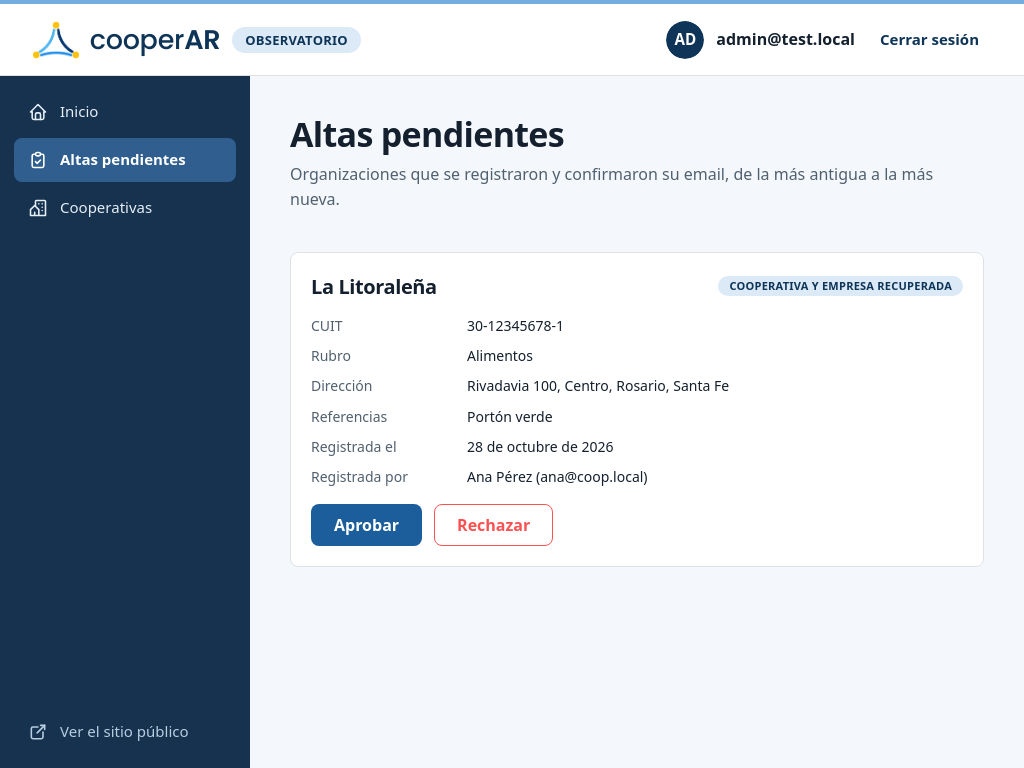
Test: pending organizations › rejects an organization only with a reason
Click the button "Rechazar" at (494, 525), box [434, 504, 553, 546]
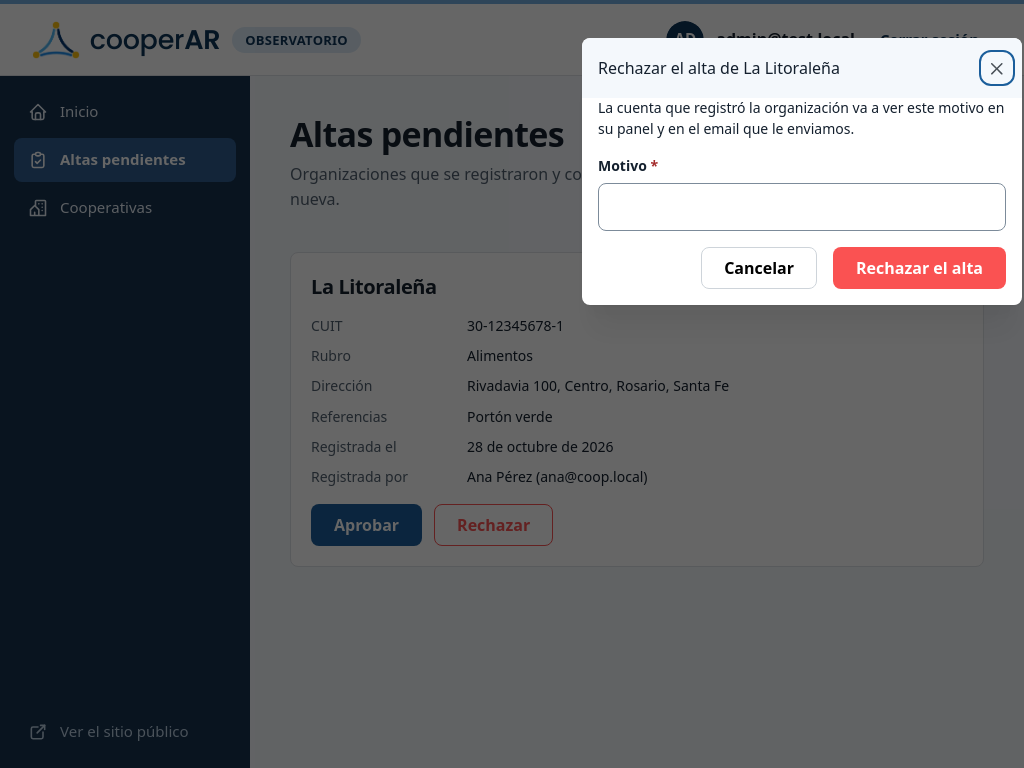
Click the button "Rechazar el alta" at (920, 268), box [833, 247, 1006, 289]
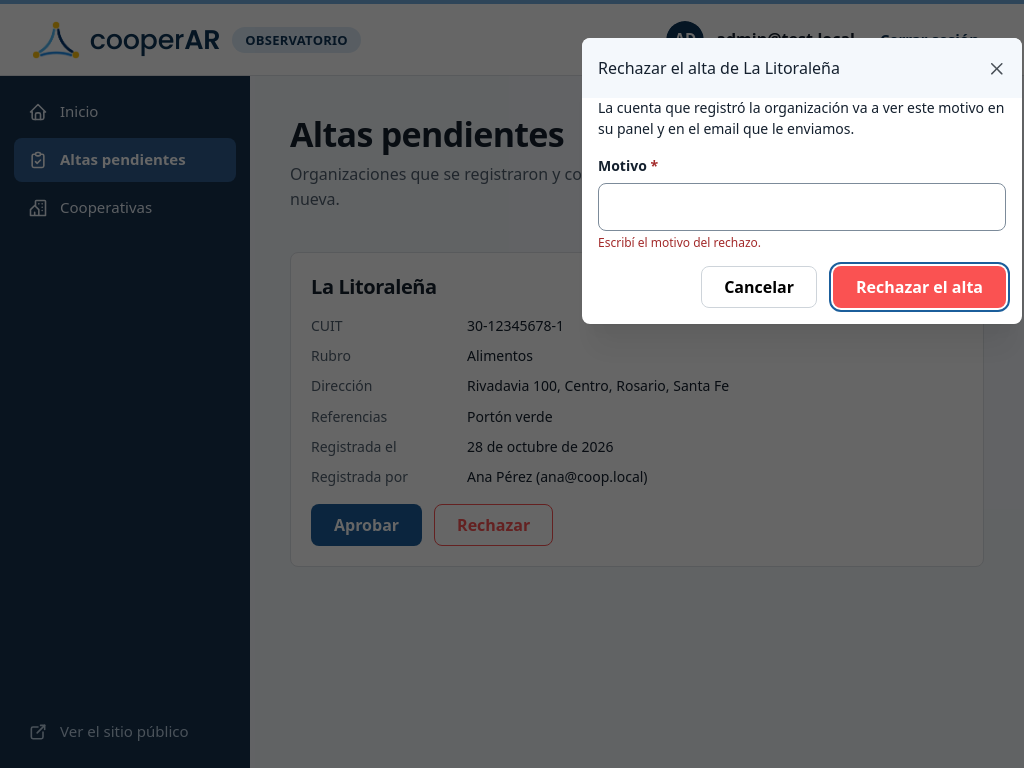
Expected: the text "Escribí el motivo del rechazo." is shown, [598, 234, 761, 251]
Type " CUIT duplicado " into the text box labelled "Motivo" at (802, 207), box [598, 183, 1006, 231]
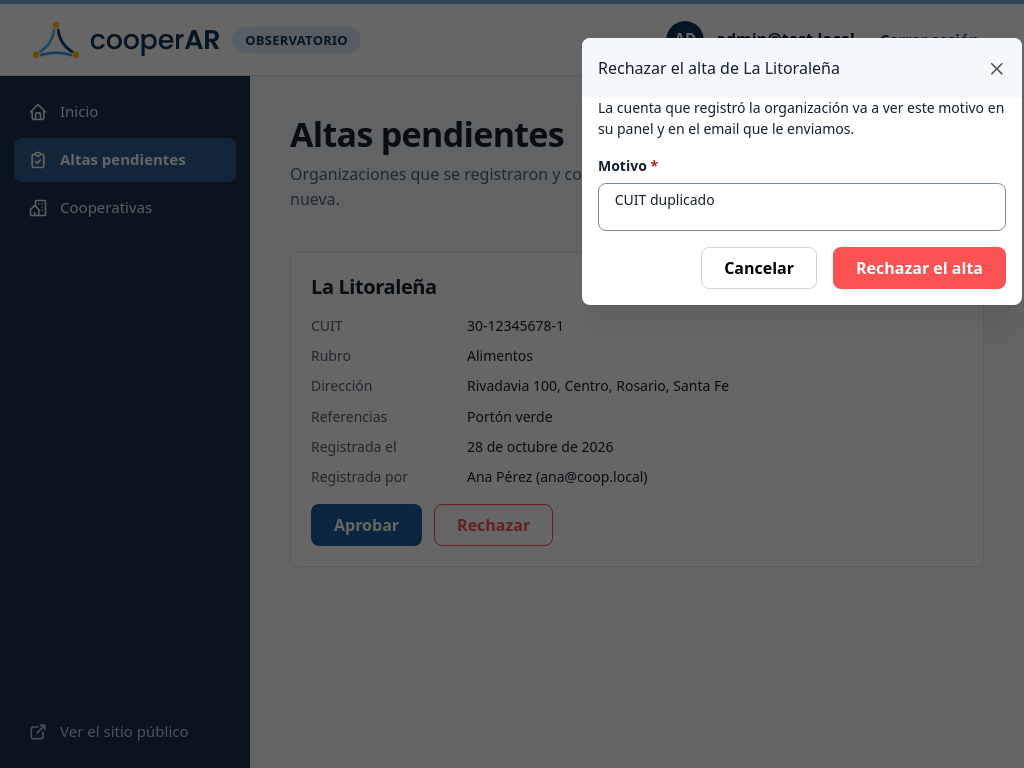
Click the button "Rechazar el alta" at (920, 268), box [833, 247, 1006, 289]
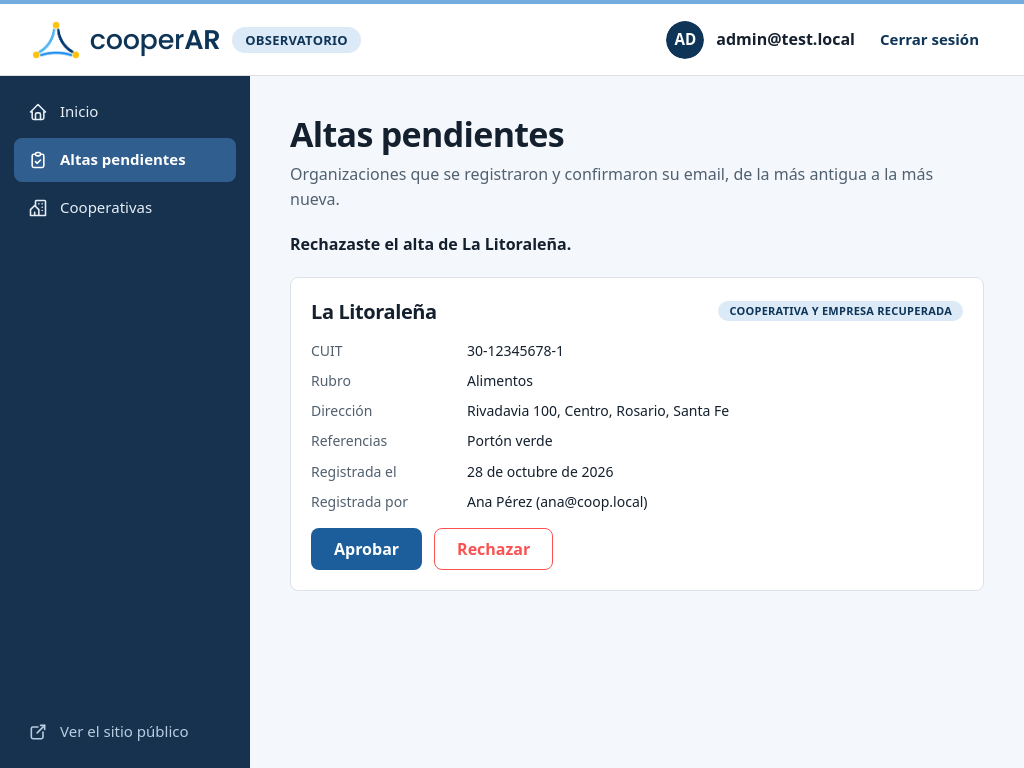
Expected: the text "Rechazaste el alta de La Litoraleña." is shown, [290, 233, 571, 255]
Expected: the dialog is gone
